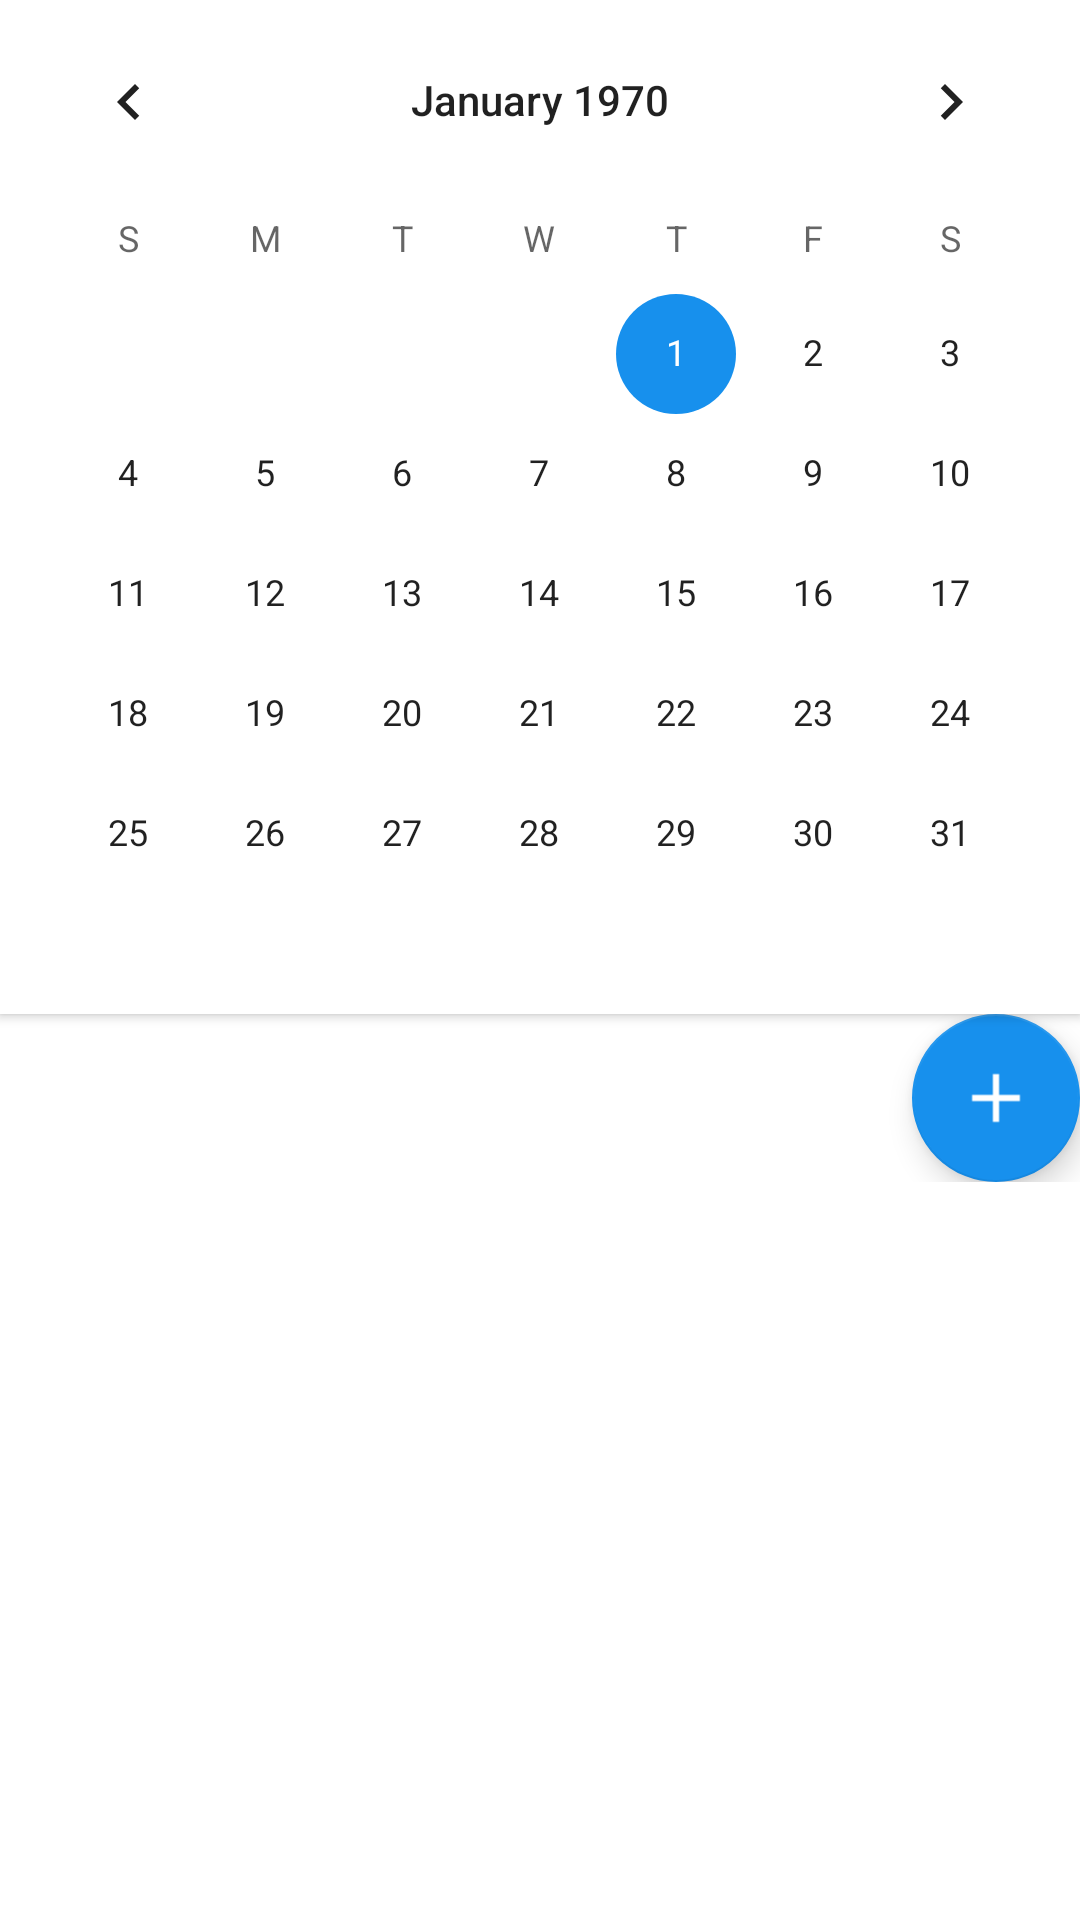

Locate icon controls on the screen. Image size 1080×1920, boxes as (x1, y1, x2, y2).
add: (912, 1014, 1080, 1182)
